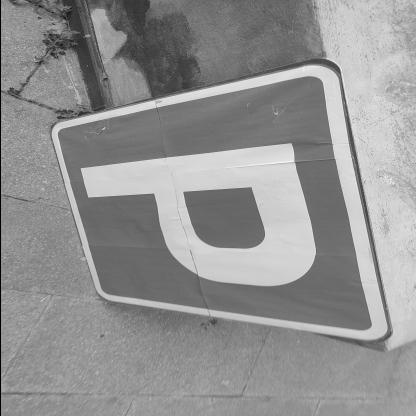Parking-Sign: (46, 55, 394, 345)
